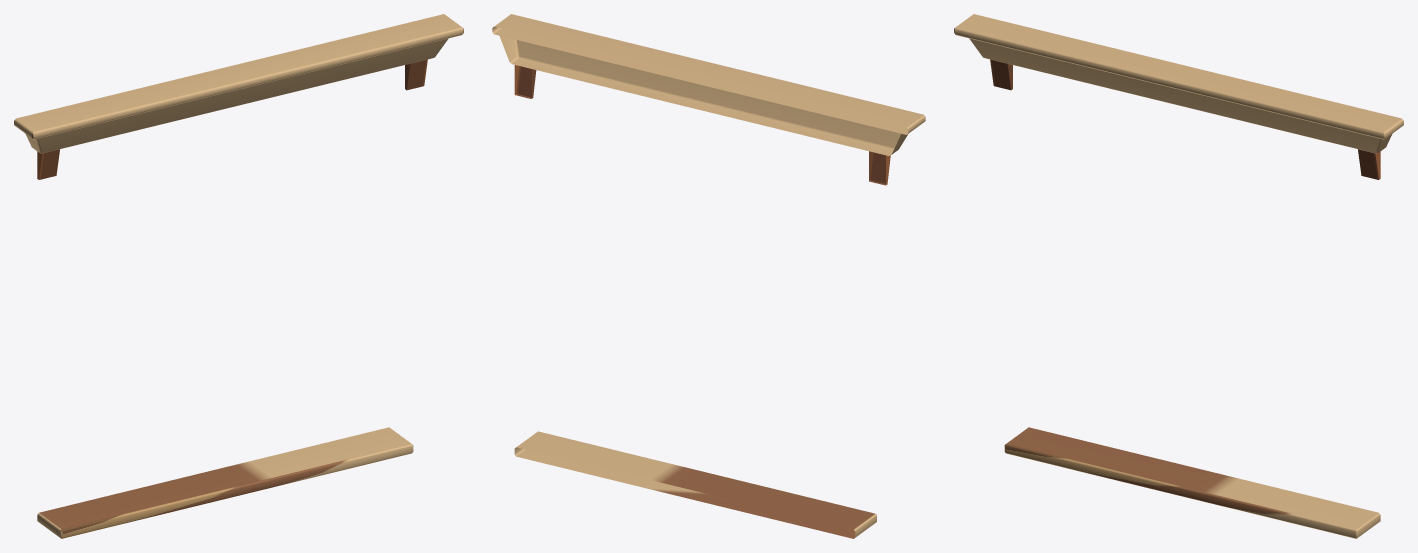
Rendered from DBK_WinBig_Trim_B_Full.fbx.
3 renders of one model, left to right at view 1: azimuth 30°, elevation 25°; view 2: azimuth 150°, elevation 25°; view 3: azimuth 330°, elevation 25°, orthographic. The views are drawn at different scales.
Visible parts, largest first — view 1: DBK_WinBig_Trim_B_Full; view 2: DBK_WinBig_Trim_B_Full; view 3: DBK_WinBig_Trim_B_Full.
Boxes of the visible parts, <box> form: DBK_WinBig_Trim_B_Full: <box>14,14,463,538</box>; DBK_WinBig_Trim_B_Full: <box>492,14,925,538</box>; DBK_WinBig_Trim_B_Full: <box>954,14,1403,538</box>.
Size of the model in its own units: 249 by 234 by 34.82.
